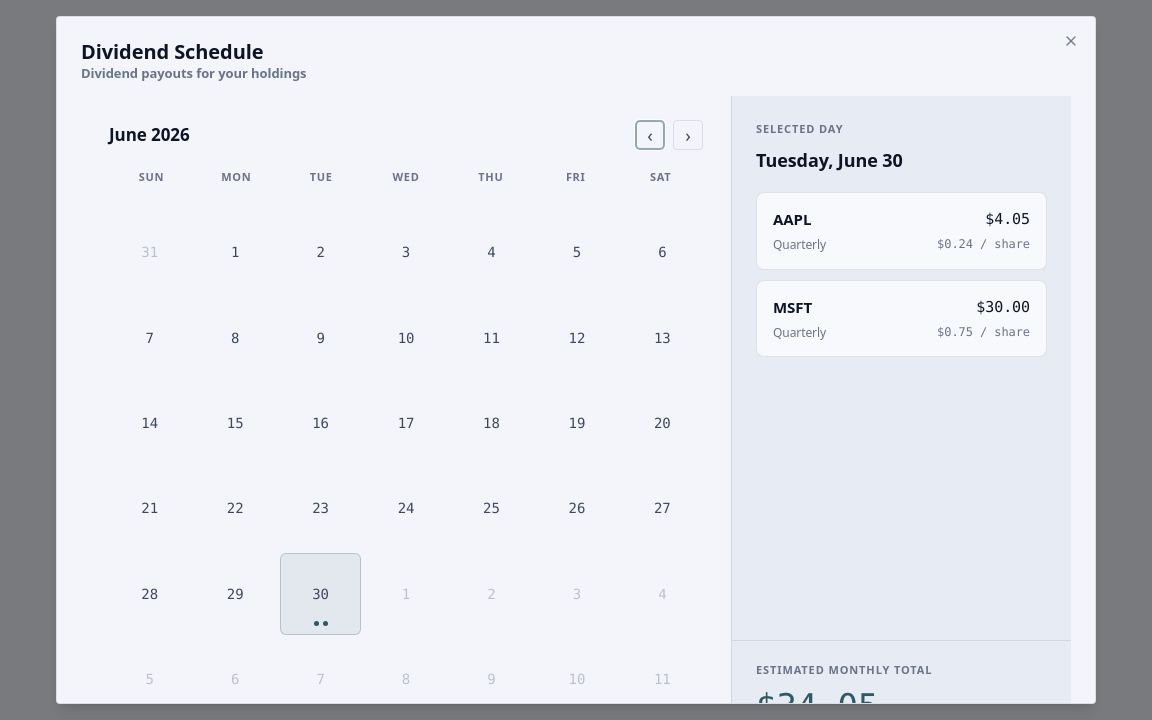
Test: DividendScheduleModal › fetches and shows the next month
Click the button named "Next month" at [688, 135], box [673,120,703,150]
(page scrolled)
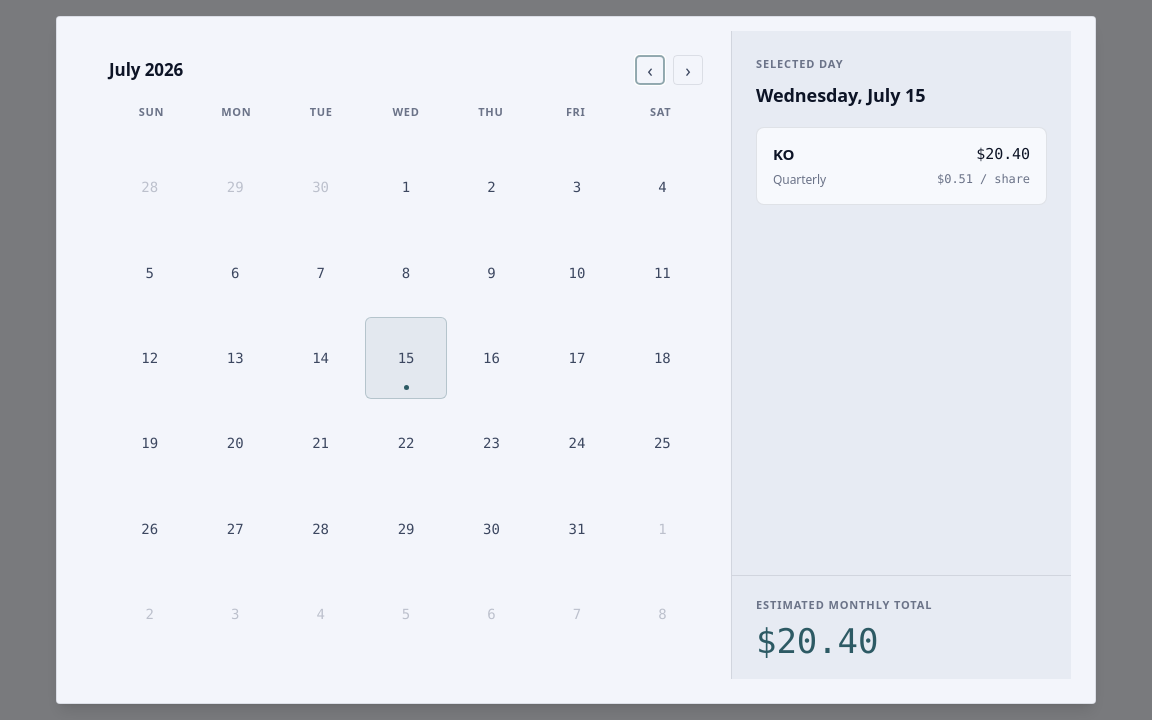
expect the heading "July 2026" is shown: met, box [109,58,183,82]
expect the heading "Wednesday, July 15" is shown: met, box [756,83,925,107]
expect the text "KO" is shown: met, box [773,144,794,164]
